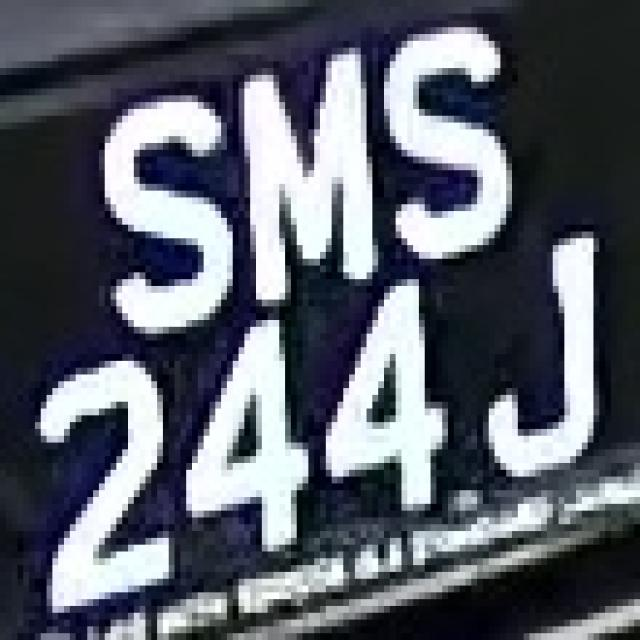2: (6, 327, 192, 640)
4: (326, 245, 465, 558), (163, 306, 320, 572)
J: (466, 211, 622, 490)
M: (227, 54, 401, 320)
S: (361, 7, 535, 272), (88, 75, 245, 340)
